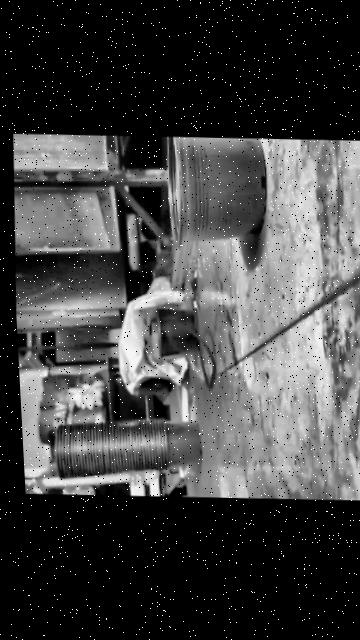pot: (162, 136, 271, 252), (151, 307, 200, 362)
